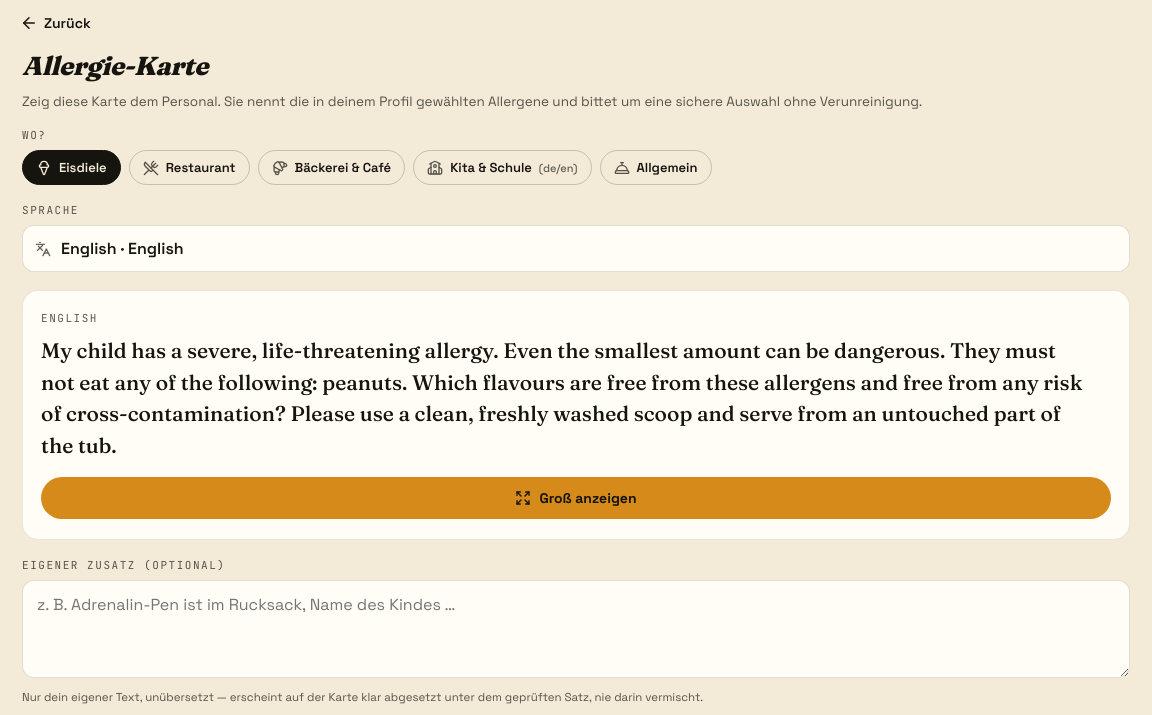
Test: PhraseScreen 'Kita & Schule' venue (F7b) › falls back to the language's own general sentence elsewhere, with a visible note
The image size is (1152, 715).
Select "Français · French" in the dropdown named "Sprache der Allergie-Karte": [576, 249] box [22, 225, 1130, 272]
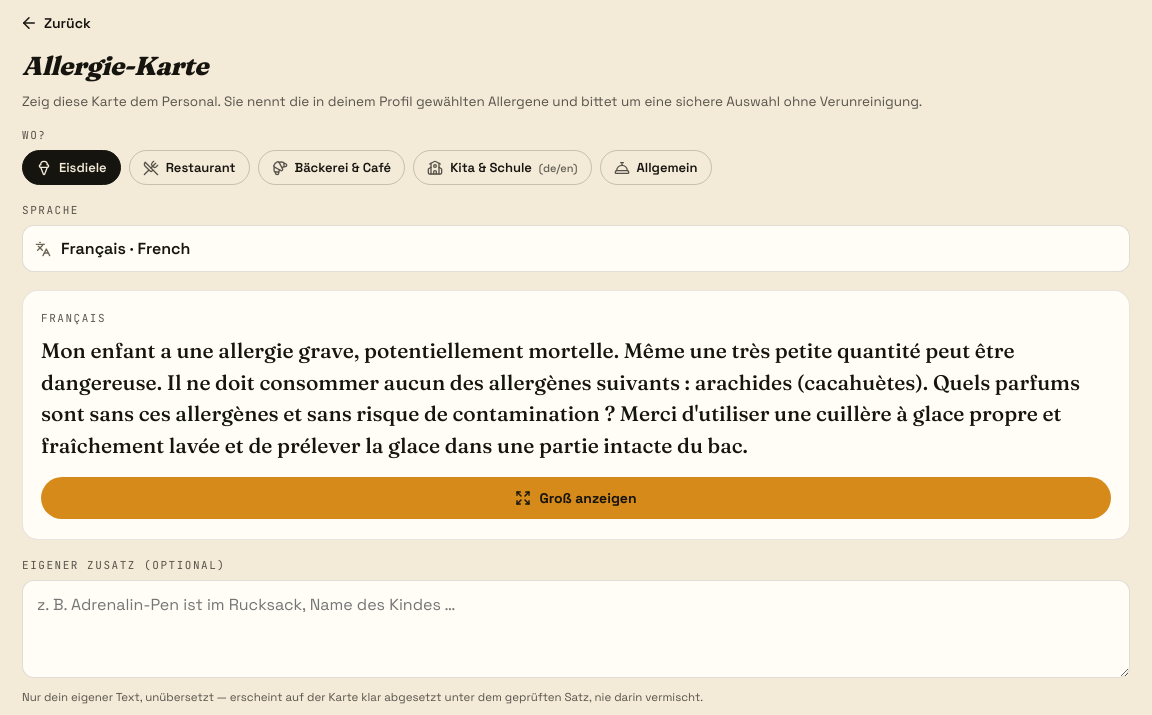
Click the button "Kita & Schule (de/en)": [502, 168] box [413, 150, 592, 185]
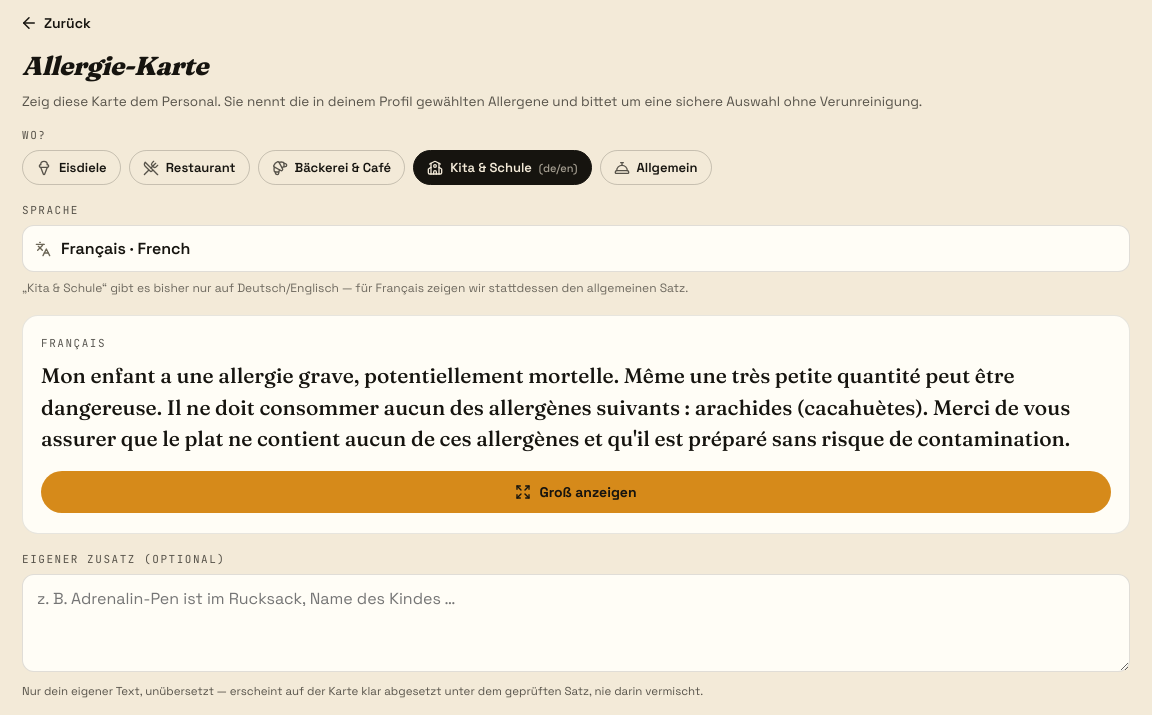
Expected: the text "gibt es bisher nur auf" is shown, [102, 280, 376, 296]
